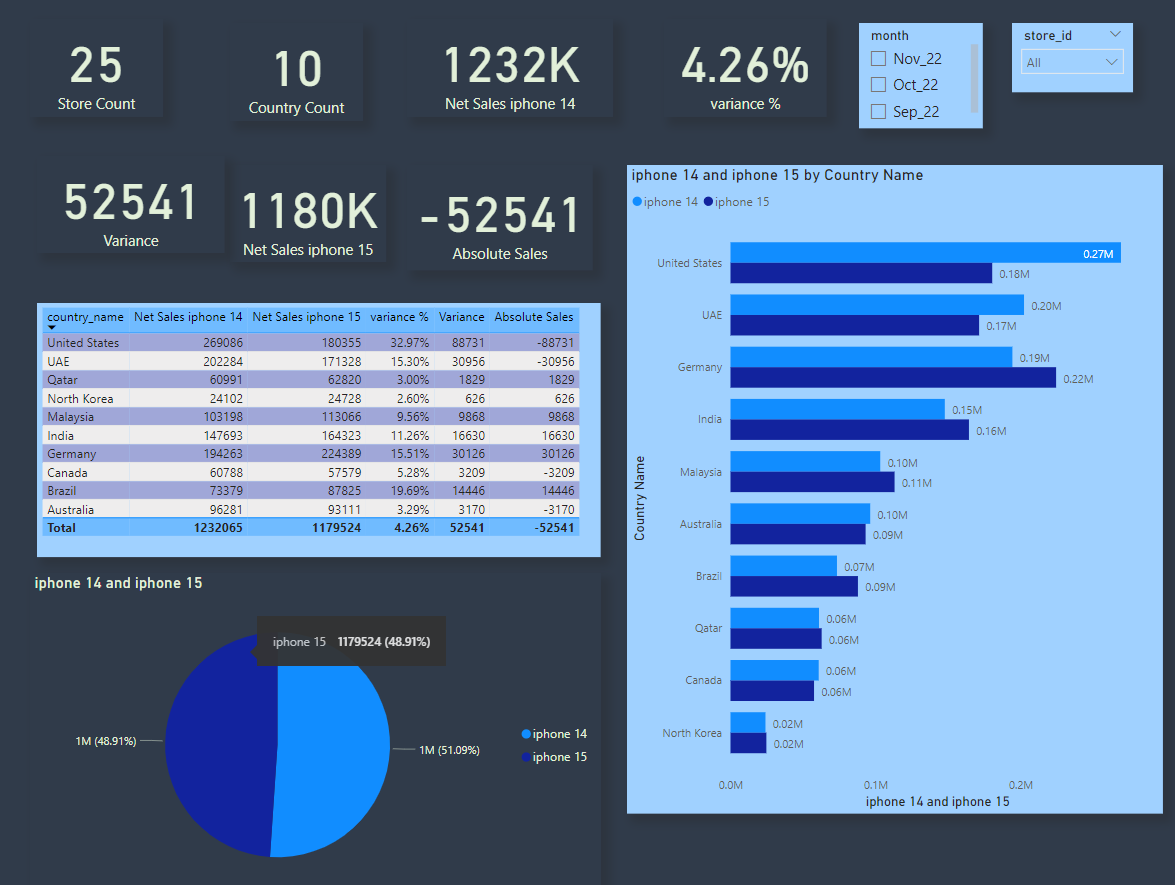

The page's visual inventory and layout, read from the dashboard file:
{"tool":"powerbi","page":{"name":"Page 1","canvas":[1280,1000],"ordinal":0},"visuals":[{"type":"card","fields":{"Values":["Measure.Store_count"]},"box":[37.9,27.1,143.9,106.1],"z":0},{"type":"card","fields":{"Values":["Measure.Country Count"]},"box":[254.3,31.4,143.9,106.1],"z":1000},{"type":"card","fields":{"Values":["Measure.Net Sales iphone 15"]},"box":[254.3,185.1,168.8,105],"z":2000},{"type":"card","fields":{"Values":["Measure.Net Sales iphone 14"]},"box":[445.9,27.1,222.9,106.1],"z":3000},{"type":"card","fields":{"Values":["Measure.Variance"]},"box":[45.5,175.3,203.5,105],"z":4000},{"type":"card","fields":{"Values":["Measure.variance %"]},"box":[724,27.1,176.4,106.1],"z":5000},{"type":"tableEx","fields":{"Values":["dim_stores.country_name","Measure.Net Sales iphone 14","Measure.Net Sales iphone 15","Measure.variance %","Measure.Variance","Measure.Absolute Sales"]},"box":[45.5,334.4,610.4,274.9],"z":6000},{"type":"slicer","fields":{"Values":["fact_sales_Iphone14.month"]},"box":[935.1,31.4,134.2,113.6],"z":7000},{"type":"slicer","fields":{"Values":["fact_sales_Iphone14.store_id"]},"box":[1100.6,31.4,131,74.7],"z":8000},{"type":"card","fields":{"Values":["Measure.Absolute Sales"]},"box":[445.9,185.1,201.3,113.6],"z":9000},{"type":"clusteredBarChart","fields":{"Category":["dim_stores.country_name"],"Y":["Measure.Net Sales iphone 14","Measure.Net Sales iphone 15"]},"box":[684,185.1,580.1,702.4],"z":10000},{"type":"pieChart","fields":{"Y":["Measure.Net Sales iphone 14","Measure.Net Sales iphone 15"]},"box":[37.9,626.6,618,352.8],"z":11000}]}

Visuals, with their boxes on the page's 1280x1000 design canvas (x1, y1, x2, y2). These are canvas units, not pixel positions in the 1175x885 screenshot, which may show the page scaled, cropped or inside an application window:
card - Measure.Store_count: 38,27,182,133
card - Measure.Country Count: 254,31,398,138
card - Measure.Net Sales iphone 15: 254,185,423,290
card - Measure.Net Sales iphone 14: 446,27,669,133
card - Measure.Variance: 46,175,249,280
card - Measure.variance %: 724,27,900,133
tableEx - dim_stores.country_name x Measure.Net Sales iphone 14: 46,334,656,609
slicer - fact_sales_Iphone14.month: 935,31,1069,145
slicer - fact_sales_Iphone14.store_id: 1101,31,1232,106
card - Measure.Absolute Sales: 446,185,647,299
clusteredBarChart - dim_stores.country_name x Measure.Net Sales iphone 14: 684,185,1264,888
pieChart - Measure.Net Sales iphone 14 x Measure.Net Sales iphone 15: 38,627,656,979
